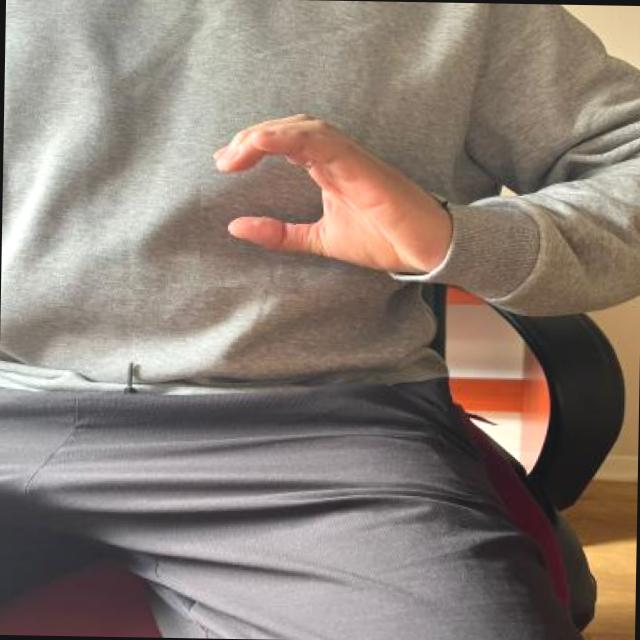C: (198, 89, 449, 290)
